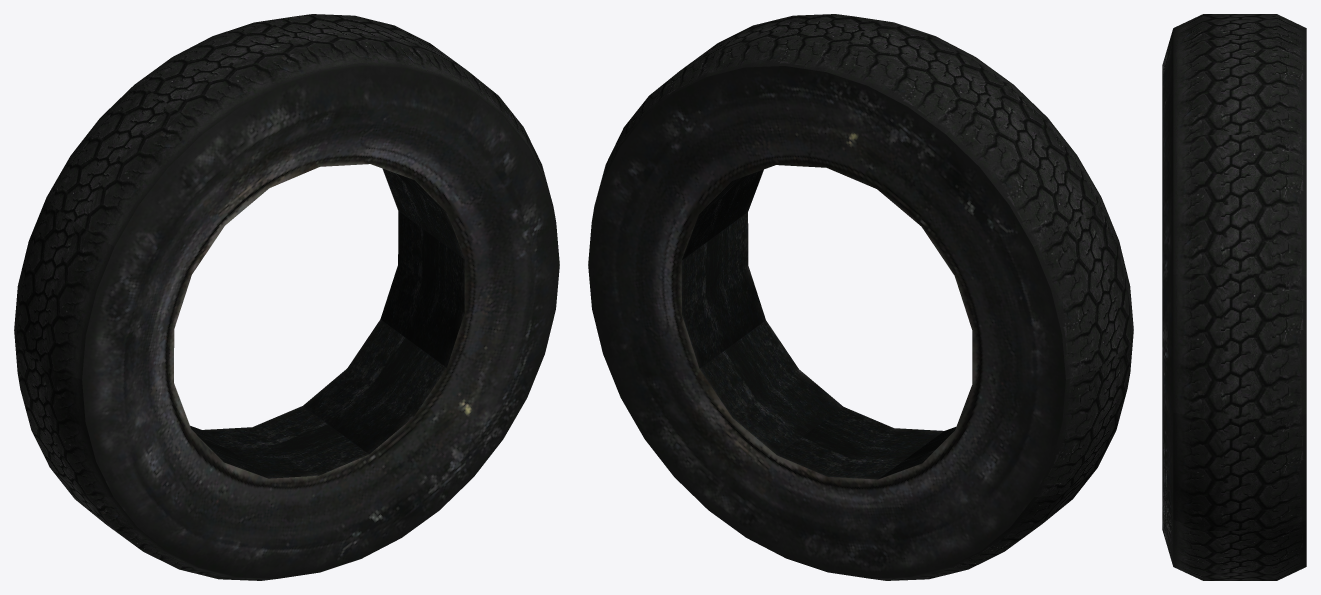
The model's file is Roue5.obj.
The picture shows the model from 3 angles, left to right: view 1: azimuth 30°, elevation 25°; view 2: azimuth 150°, elevation 25°; view 3: azimuth 270°, elevation 25°; orthographic projection. The views are drawn at different scales.
Visible parts, largest first — view 1: Roue5; view 2: Roue5; view 3: Roue5.
Part boxes in pixels (left/top/right/bottom): Roue5: left=14, top=14, right=559, bottom=580; Roue5: left=588, top=14, right=1133, bottom=580; Roue5: left=1162, top=14, right=1306, bottom=580.
Size of the model in its own units: 2.74 by 2.74 by 0.6934.
1 material, 1 textured.
